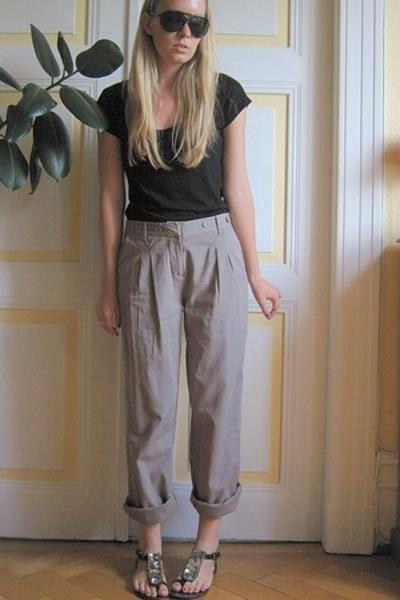pants: (114, 212, 259, 561)
shirt: (97, 73, 251, 222)
shoe: (134, 558, 213, 596)
sunglass: (159, 10, 209, 39)
